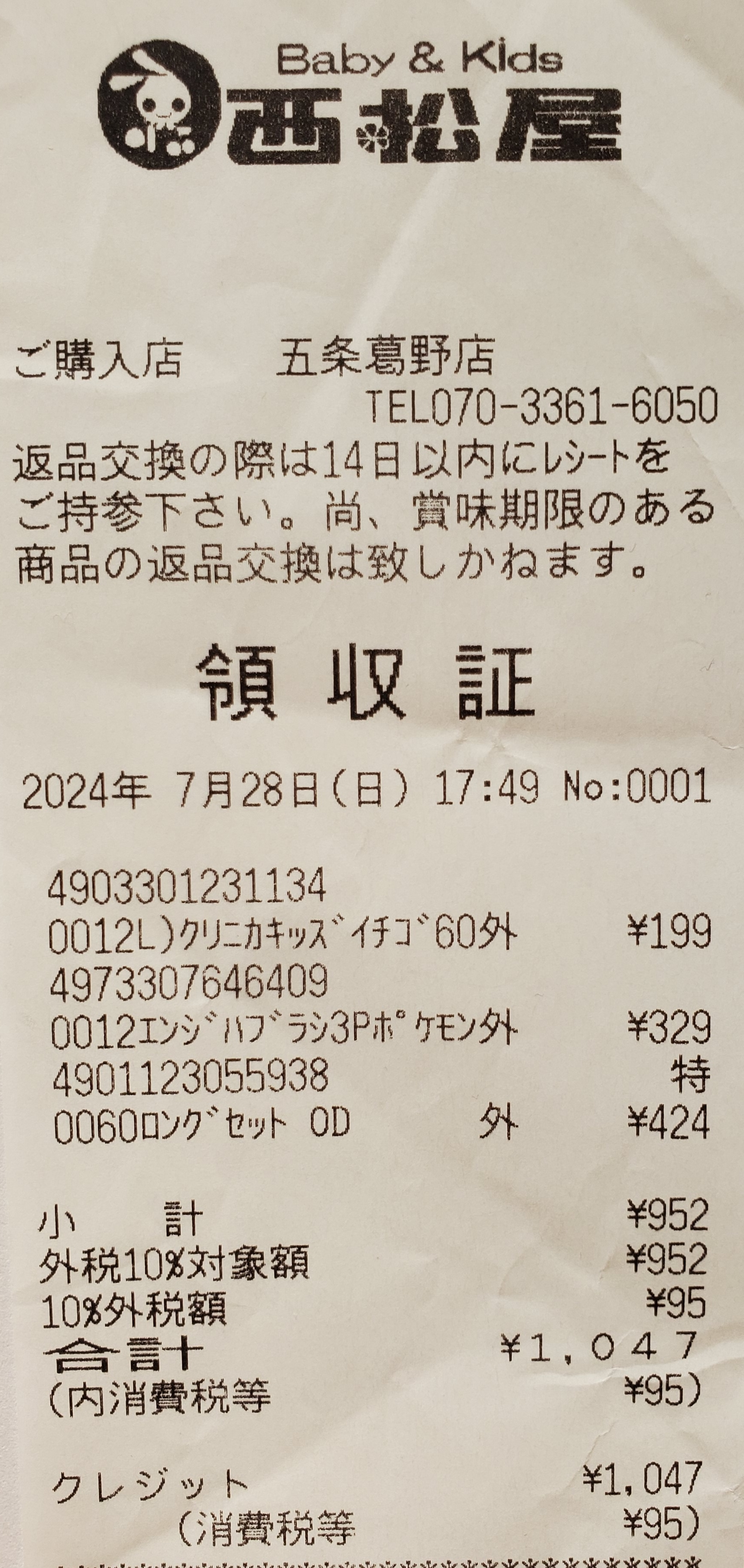Date: (15, 749, 328, 823)
Shopname: (219, 76, 649, 185)
Telnum: (430, 380, 731, 430)
Totalpay: (36, 1327, 710, 1376)
